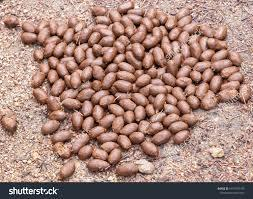Elk: (45, 27, 217, 121)
